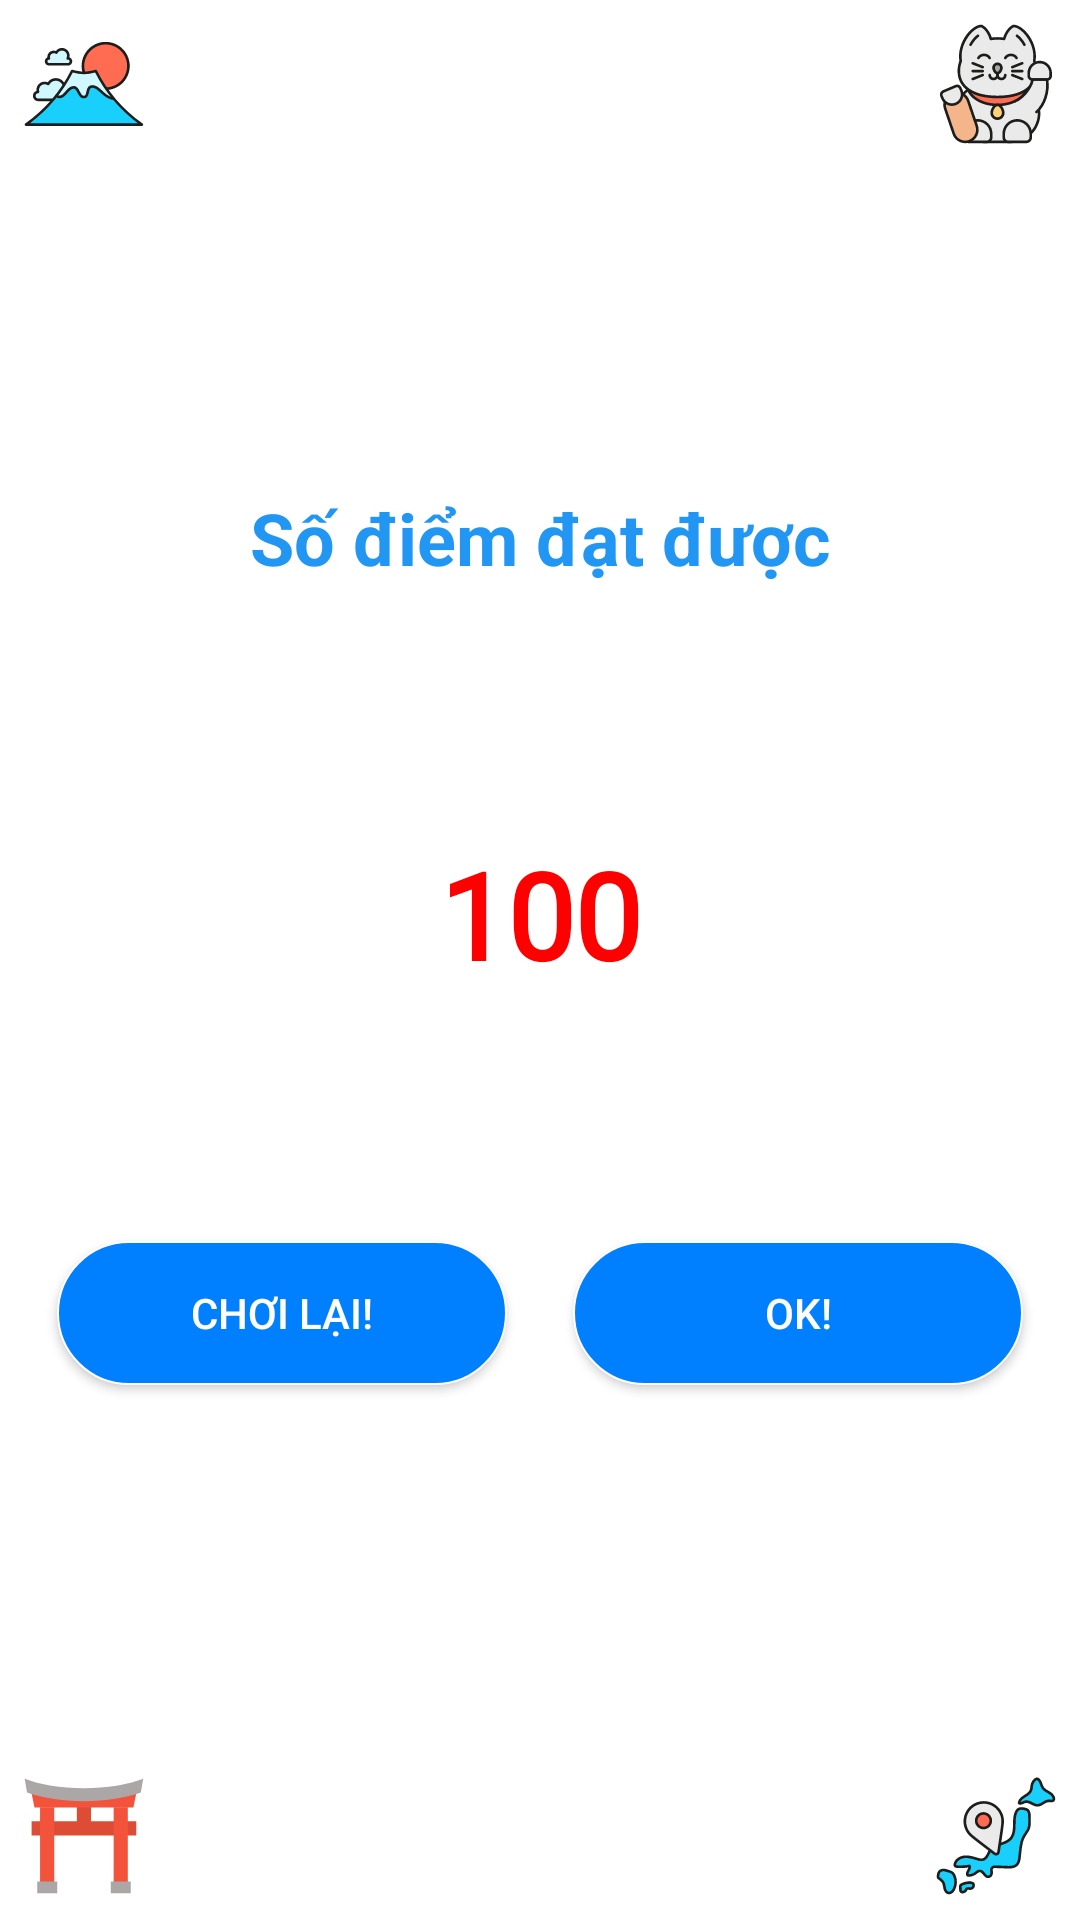

Locate icon controls on the screen. Image size 1080 x 1920, boxes as (x1, y1, x2, y2).
fuji: (24, 42, 144, 126)
map: (936, 1777, 1056, 1895)
neko: (940, 24, 1052, 144)
torii gate: (25, 1779, 143, 1893)
